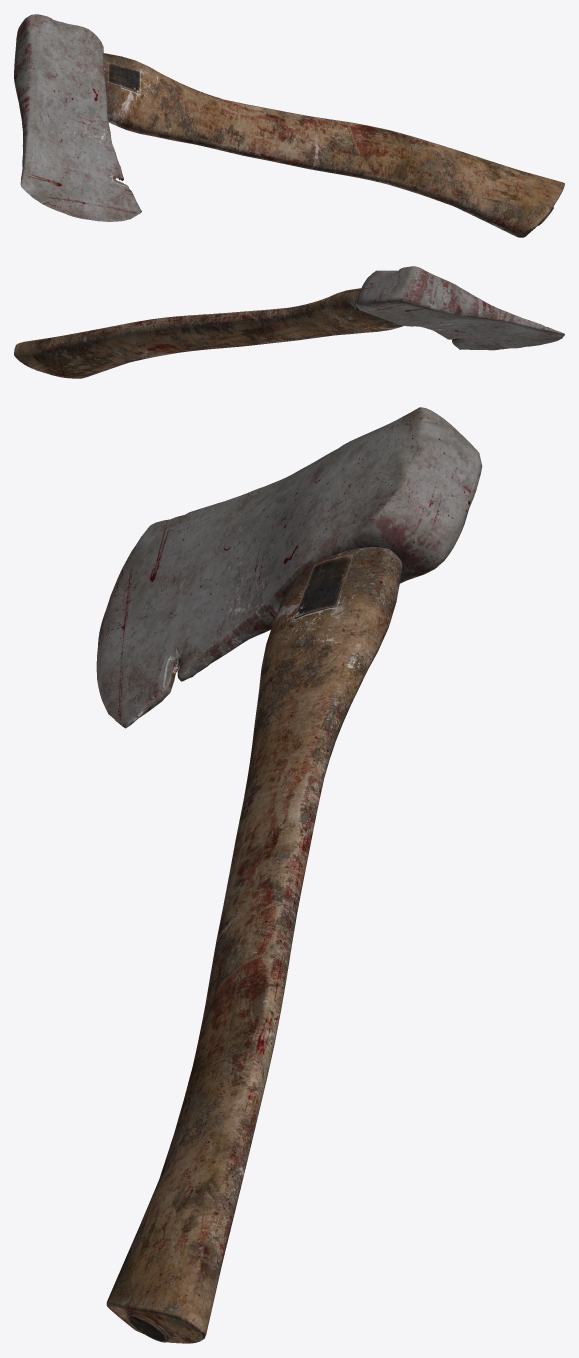
Rendered from viking.glb.
3 views of the same model, one above another, from view 1: azimuth 30°, elevation 25°; view 2: azimuth 150°, elevation 25°; view 3: azimuth 270°, elevation 25° (orthographic). The views are drawn at different scales.
Visible parts, largest first — view 1: axe_handler_low, axe_head_low, axe_label_low; view 2: axe_handler_low, axe_head_low; view 3: axe_handler_low, axe_head_low, axe_label_low.
Boxes of the visible parts, x1,y1,x2,y2 form: axe_handler_low: (103,53,564,237); axe_head_low: (14,14,141,221); axe_label_low: (107,61,140,93); axe_handler_low: (14,288,403,378); axe_head_low: (356,266,564,350); axe_handler_low: (106,547,402,1343); axe_head_low: (96,407,482,728); axe_label_low: (294,554,354,618).
Bounding box in the file's own units: 2.42 × 1.12 × 0.7482.
Materials: 2 (2 with a texture image).
